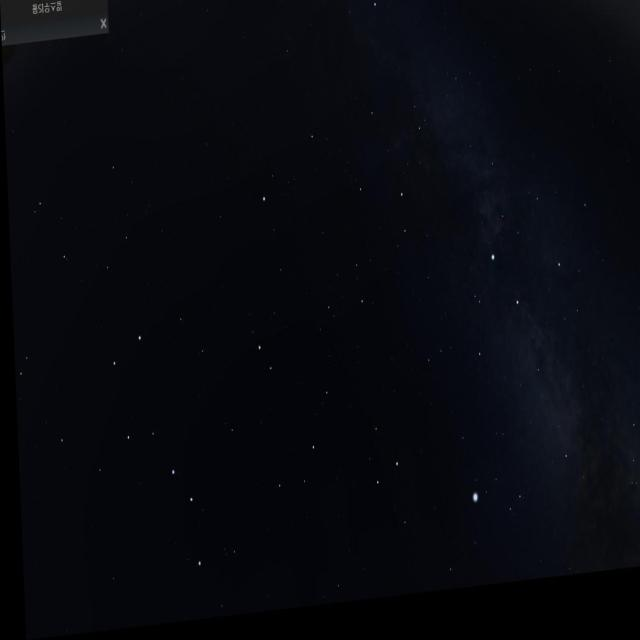cygnus: (450, 230, 576, 478)
lyra: (457, 465, 528, 549)
ursa_major: (94, 328, 203, 582)
